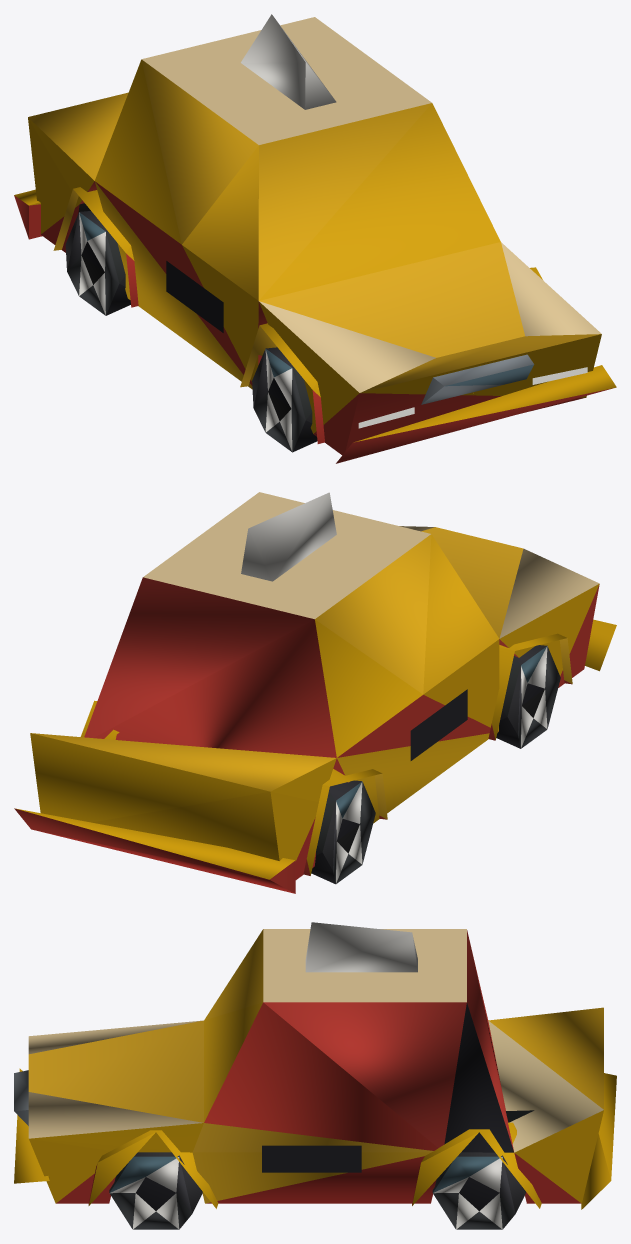
The model's file is taxi-ambient.high.23d56803.glb.
The picture shows the model from 3 angles, top to bottom: view 1: azimuth 30°, elevation 25°; view 2: azimuth 150°, elevation 25°; view 3: azimuth 270°, elevation 25°; orthographic projection. The views are drawn at different scales.
Parts seen in each view (by area): view 1: taxi-ambient; view 2: taxi-ambient; view 3: taxi-ambient.
Part boxes in pixels (box(x1,y1,x2,y2)): taxi-ambient: box(14, 14, 616, 463); taxi-ambient: box(14, 492, 616, 893); taxi-ambient: box(14, 922, 616, 1229).
Bounding box in the file's own units: 2.18 × 2.28 × 4.9.
